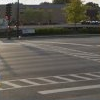crosswalk: (0, 71, 99, 91)
